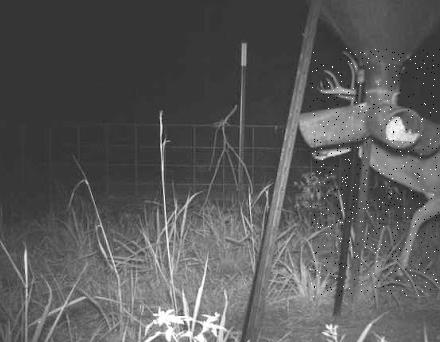Deer: (310, 48, 440, 297)
